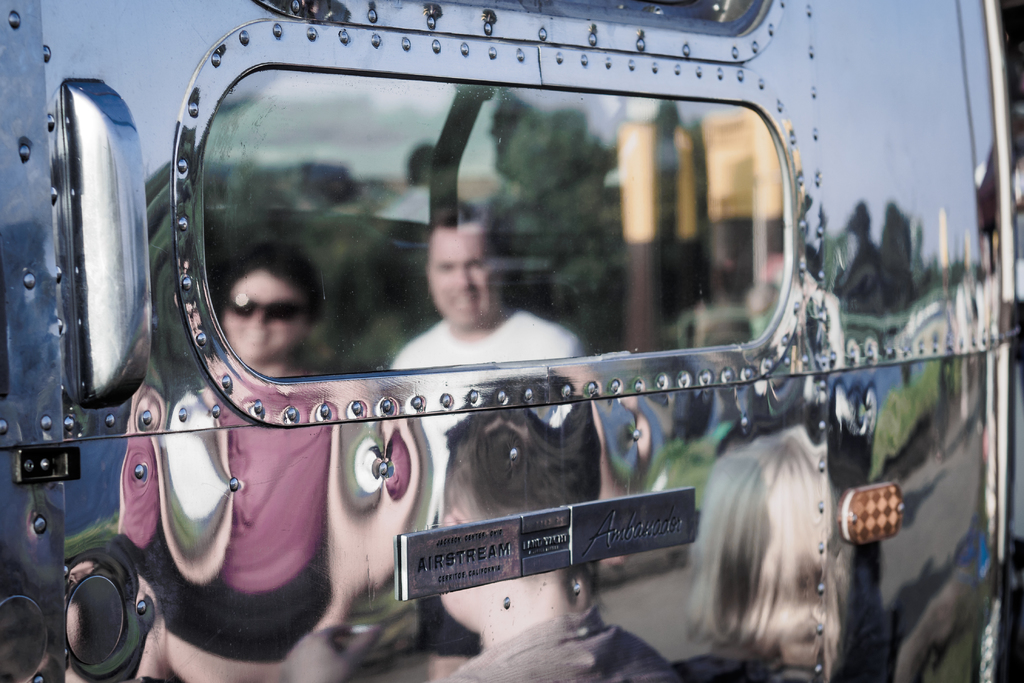face: (430, 212, 510, 329), (222, 271, 316, 358)
